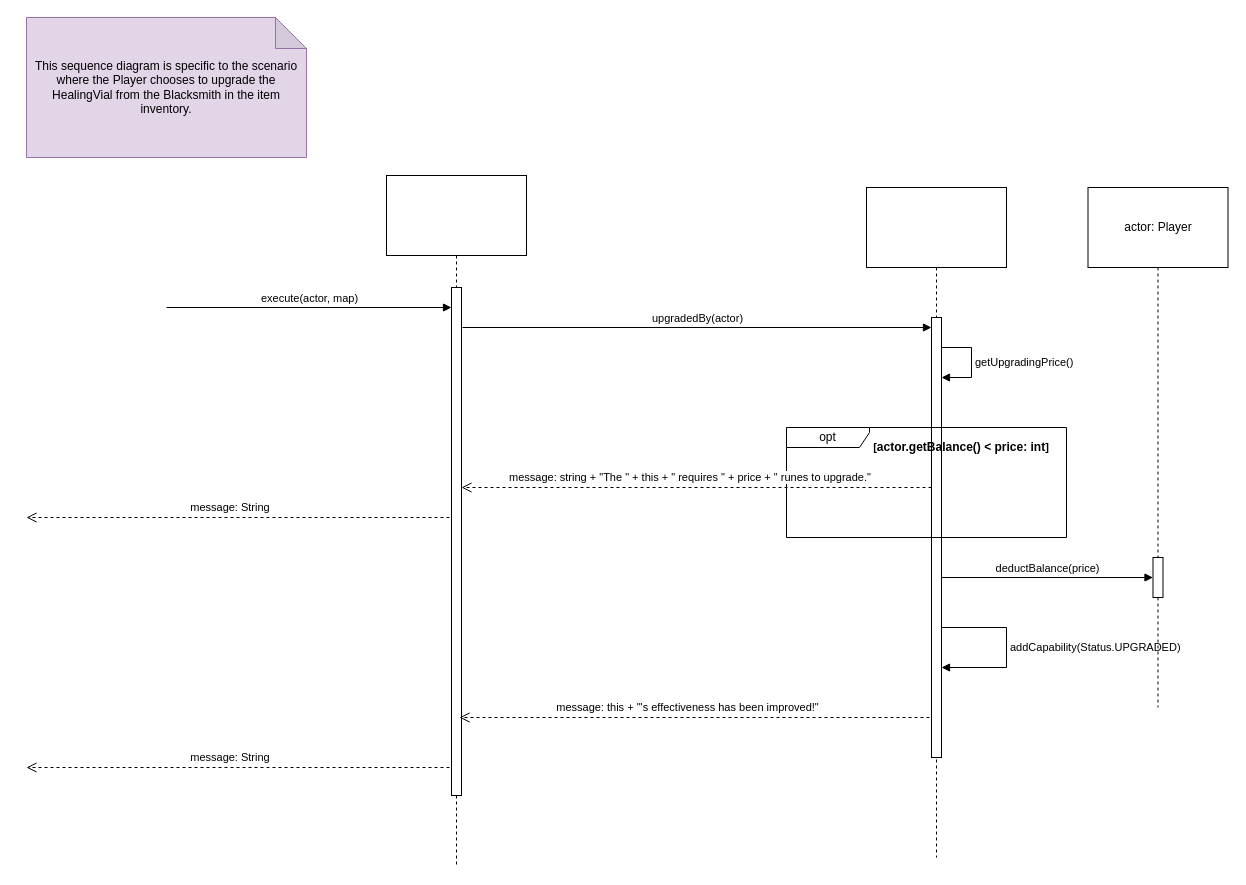
This 1246x885 diagram has some shape labels left out. The shapes that lost their labels are listed below. From the top down, each one's box as (x1, y1, x2, y2) in pixels, then its label:
(386, 174, 526, 868): :UpgradeAction
(866, 186, 1006, 858): item: HealingVial
